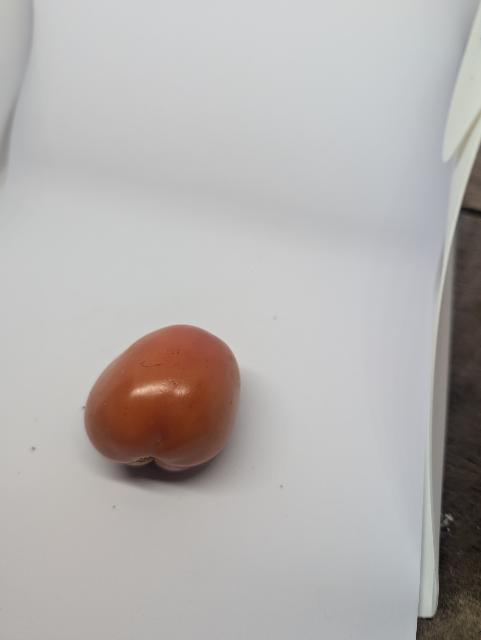red: (82, 323, 245, 479)
